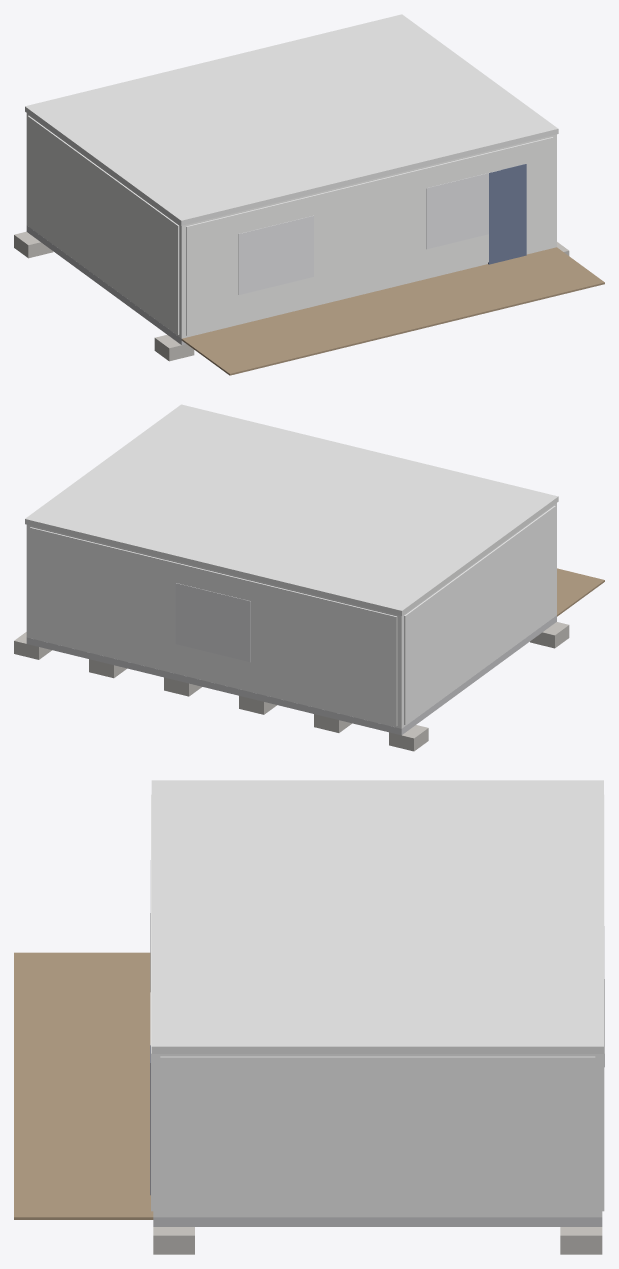
The model's file is Studio-30-Premium+TerraceDeck-LOD1.glb.
3 views of the same model, one above another, from view 1: azimuth 30°, elevation 25°; view 2: azimuth 150°, elevation 25°; view 3: azimuth 270°, elevation 25° (orthographic). The views are drawn at different scales.
Visible parts, largest first — view 1: RoofMain, ExteriorPanelsPremium, TerraceDeck, WindowsLargeUpgrade, EntryDoor, ExteriorShell, FoundationBlocks, BaseFrame; view 2: RoofMain, ExteriorPanelsPremium, WindowsLargeUpgrade, BaseFrame, FoundationBlocks, ExteriorShell, TerraceDeck; view 3: RoofMain, ExteriorPanelsPremium, TerraceDeck, ExteriorShell, BaseFrame, FoundationBlocks.
Boxes of the visible parts, left/top/right/bottom form: RoofMain: left=25, top=14, right=558, bottom=225; ExteriorPanelsPremium: left=27, top=115, right=553, bottom=335; TerraceDeck: left=181, top=247, right=604, bottom=375; WindowsLargeUpgrade: left=238, top=170, right=500, bottom=294; EntryDoor: left=488, top=164, right=526, bottom=264; ExteriorShell: left=26, top=113, right=556, bottom=338; FoundationBlocks: left=14, top=231, right=569, bottom=361; BaseFrame: left=26, top=225, right=185, bottom=344; RoofMain: left=25, top=404, right=558, bottom=615; ExteriorPanelsPremium: left=30, top=506, right=555, bottom=726; WindowsLargeUpgrade: left=175, top=583, right=250, bottom=662; BaseFrame: left=26, top=615, right=556, bottom=735; FoundationBlocks: left=14, top=622, right=569, bottom=751; ExteriorShell: left=26, top=503, right=556, bottom=728; TerraceDeck: left=557, top=568, right=604, bottom=616; RoofMain: left=151, top=780, right=603, bottom=1053; ExteriorPanelsPremium: left=151, top=794, right=604, bottom=1215; TerraceDeck: left=14, top=952, right=153, bottom=1219; ExteriorShell: left=153, top=1054, right=602, bottom=1217; BaseFrame: left=153, top=1217, right=602, bottom=1226; FoundationBlocks: left=153, top=1227, right=602, bottom=1254.
Bounding box in the file's own units: 9.6 × 3.17 × 8.49.
